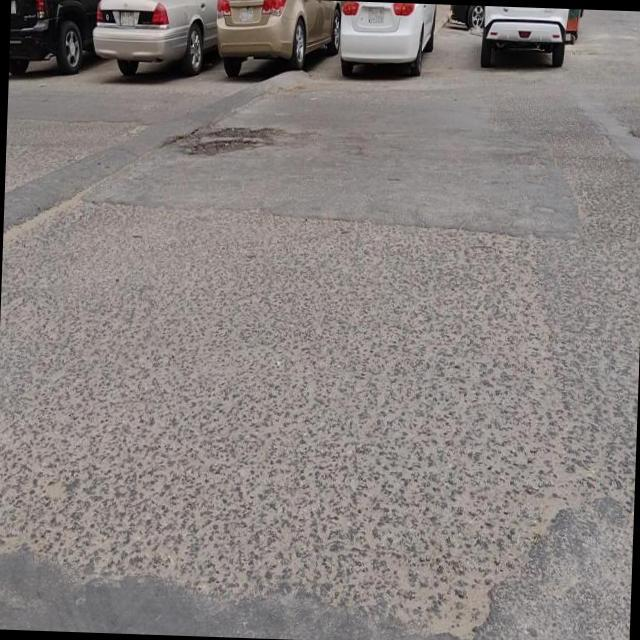Pothole: (189, 125, 280, 159)
